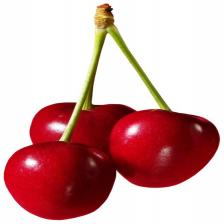red: (4, 141, 116, 220), (110, 109, 220, 188)
